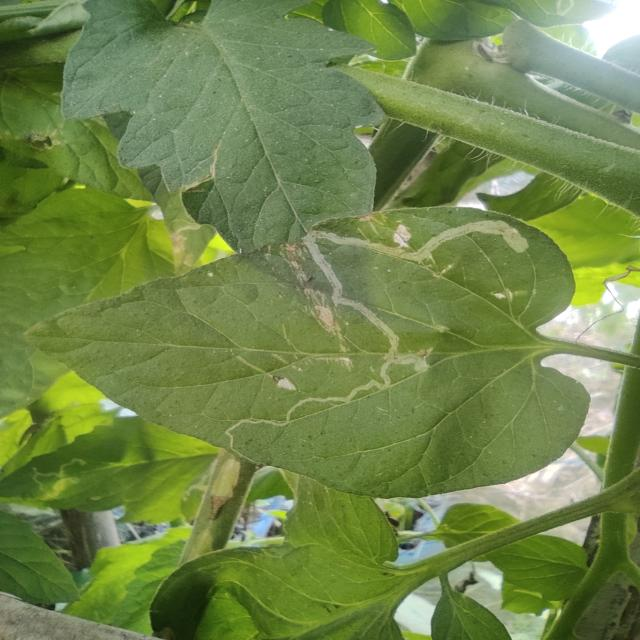Tuta absoluta: (289, 217, 538, 405)
